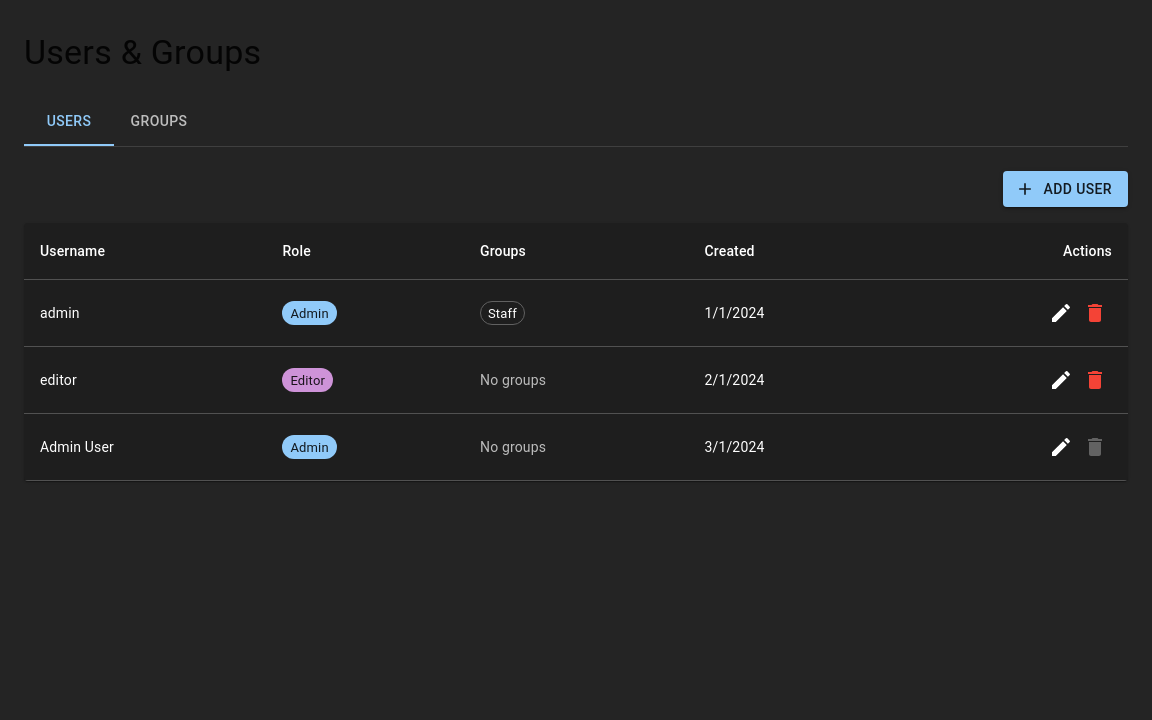
Test: UsersPage › group operations › opens dialog for creating new group
This screenshot has width=1152, height=720.
Click the tab "Groups": [159, 122] box [114,98,204,146]
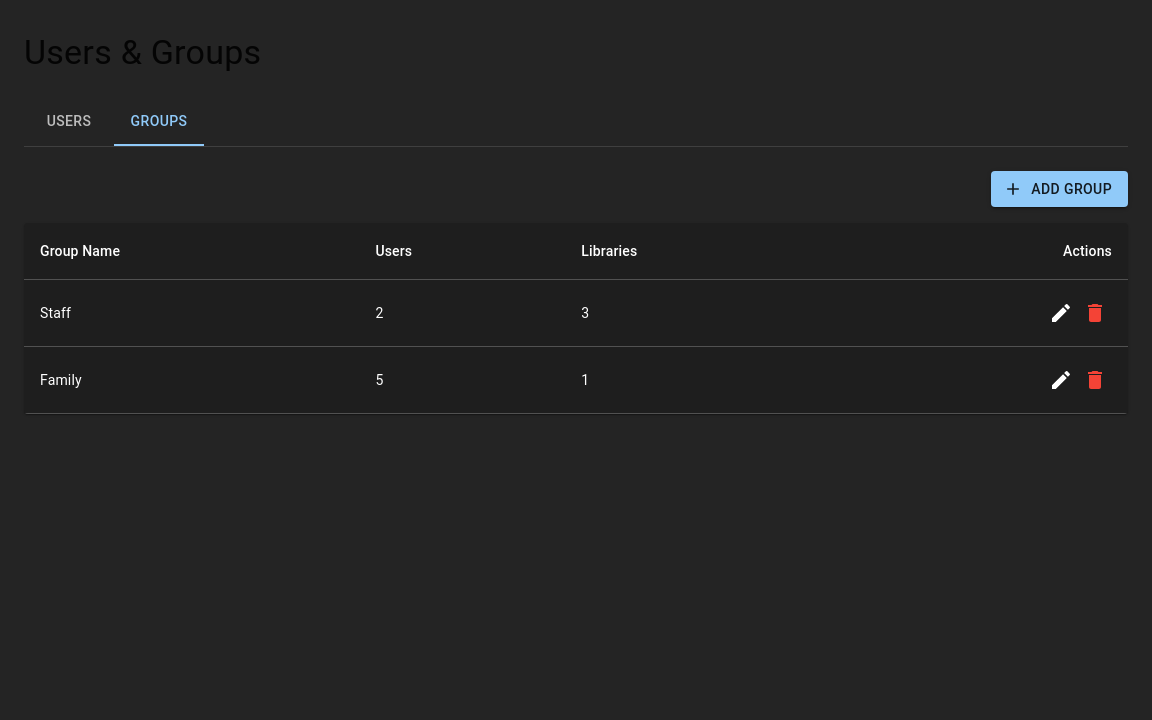
Click the button "Add Group": [1060, 189] box [991,171,1128,208]
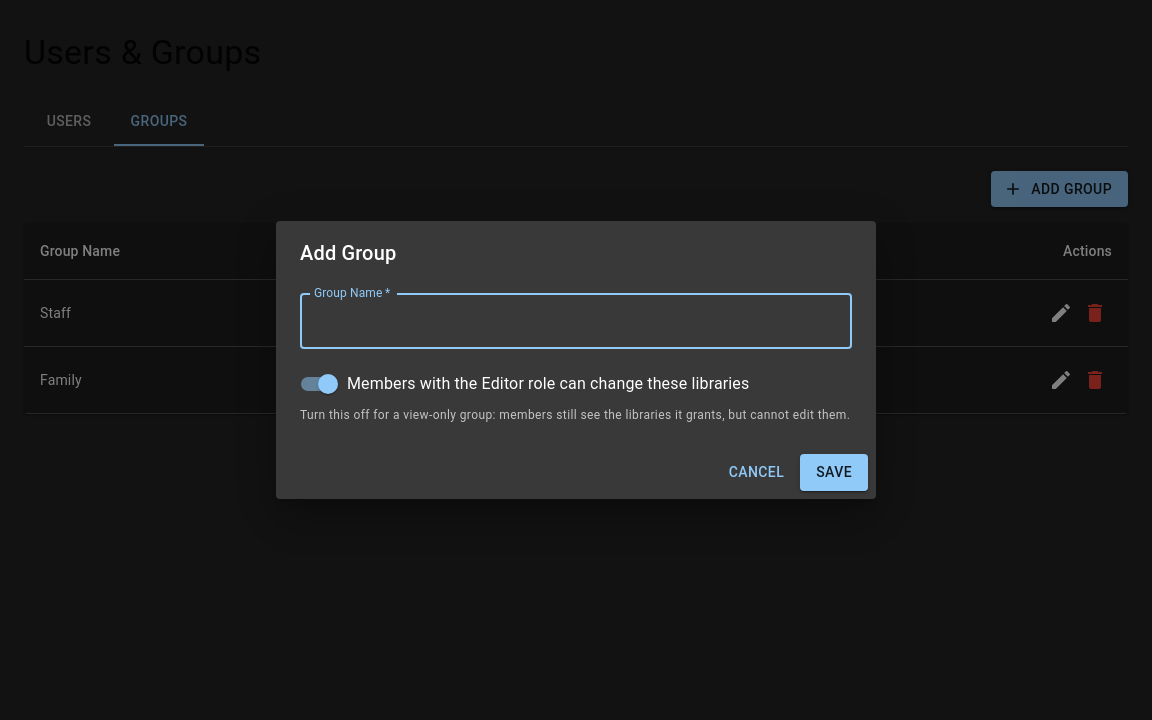
Expected: the dialog is shown, [276,221,876,499]
Expected: the field labelled "Group Name *" is shown, [300,293,852,349]
